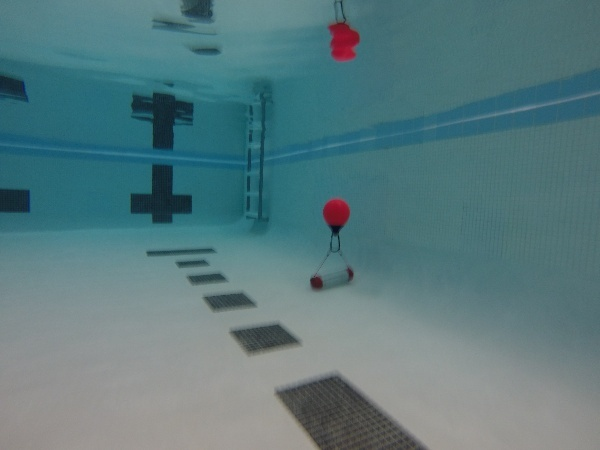buoy_red: (319, 198, 353, 237)
